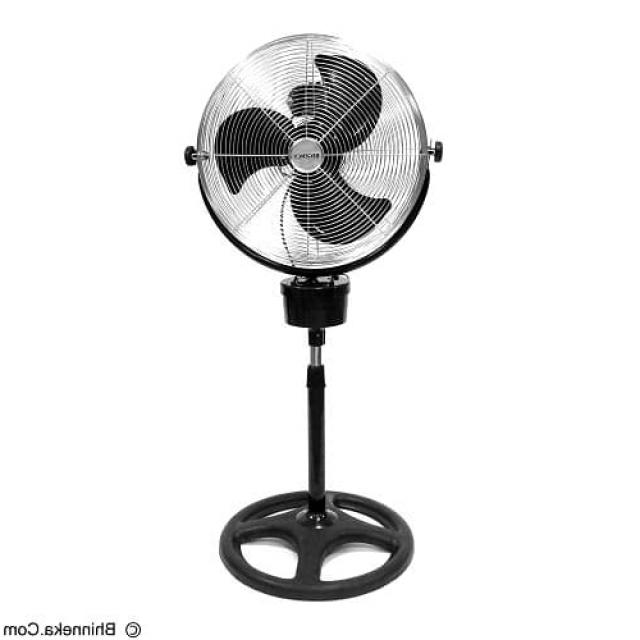fan: (179, 30, 451, 608)
